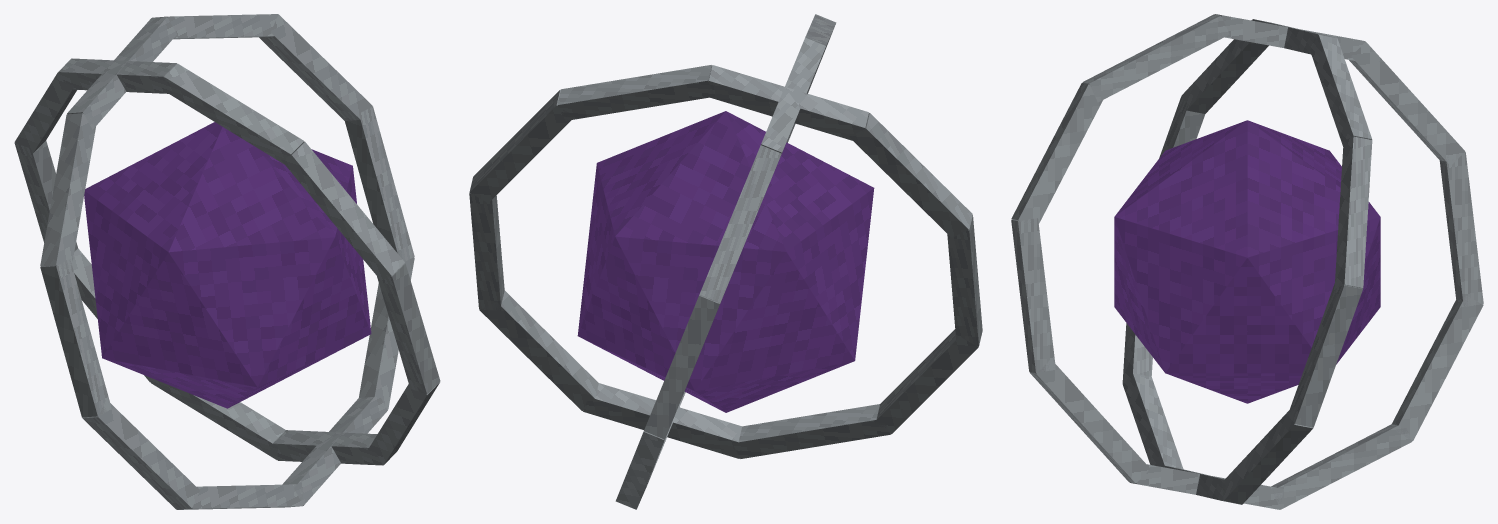
The model's file is powerup_quad_damage.glb.
3 renders of one model, left to right at view 1: azimuth 30°, elevation 25°; view 2: azimuth 150°, elevation 25°; view 3: azimuth 270°, elevation 25°, orthographic. The views are drawn at different scales.
Parts seen in each view (by area): view 1: powerup_quad_damage; view 2: powerup_quad_damage; view 3: powerup_quad_damage.
Part boxes in pixels (bbox=[...]): powerup_quad_damage: bbox=[14, 14, 440, 509]; powerup_quad_damage: bbox=[469, 14, 982, 509]; powerup_quad_damage: bbox=[1011, 14, 1483, 509].
Size of the model in its own units: 0.6645 by 0.6718 by 0.6645.
Materials: 2 (2 with a texture image).
